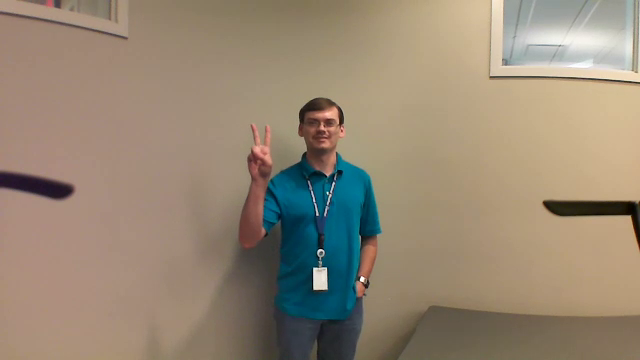peace: (244, 120, 279, 192)
